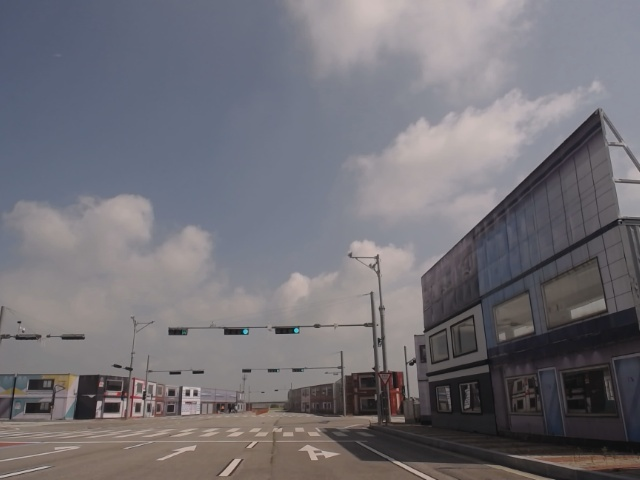straight_green_4: (224, 326, 249, 335), (274, 327, 300, 334)
